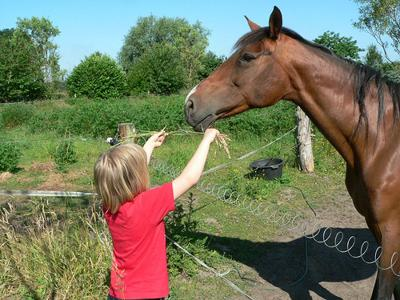person: (92, 128, 223, 300)
